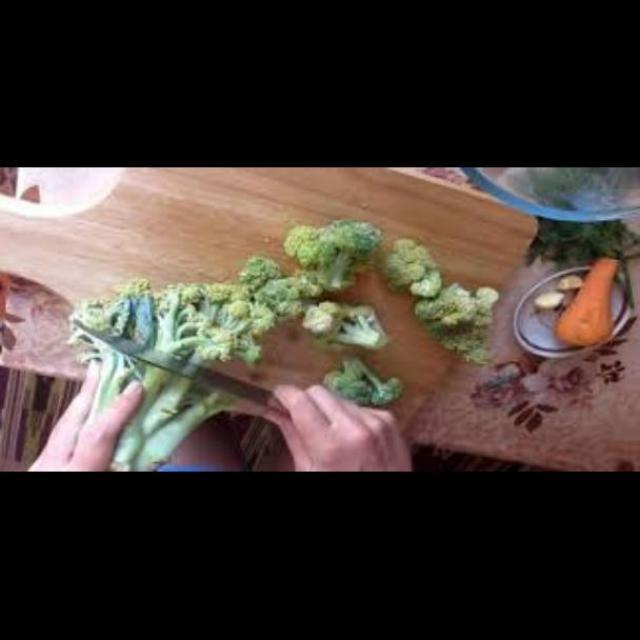Broccoli: (37, 265, 296, 402), (391, 250, 494, 372), (277, 221, 376, 297), (308, 286, 398, 366), (324, 368, 407, 436)
Carrot: (553, 252, 624, 352)
garlic: (552, 270, 584, 296), (532, 290, 566, 312)
